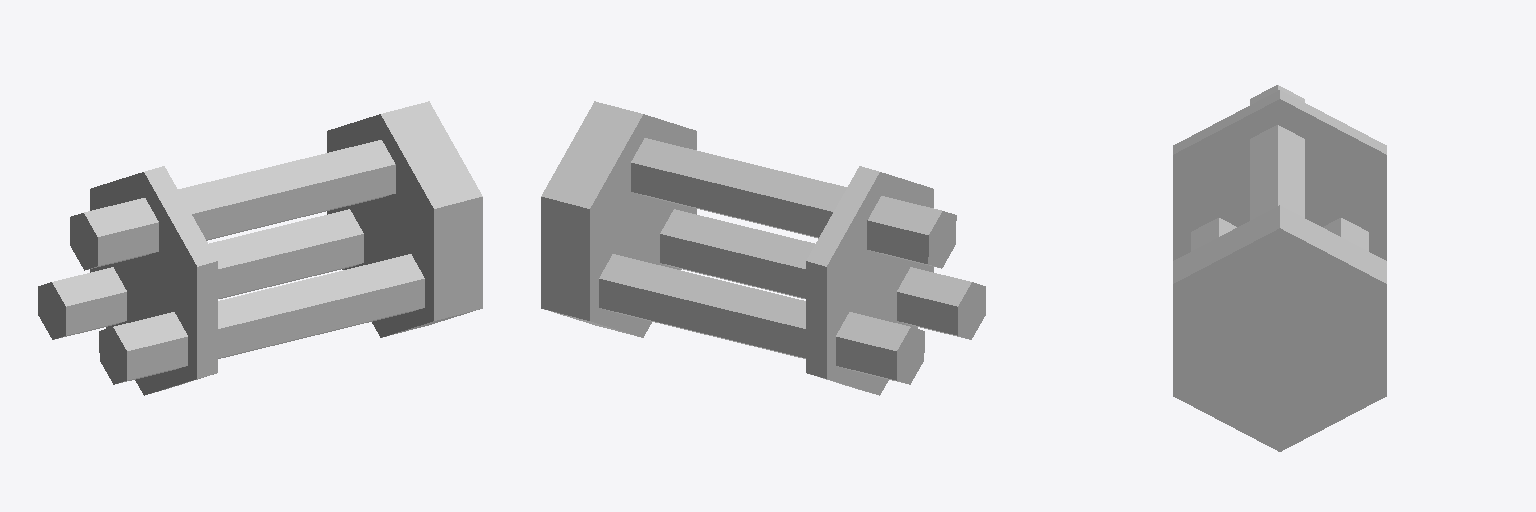
File: barrel1.obj
The picture shows the model from 3 angles: view 1: azimuth 30°, elevation 25°; view 2: azimuth 150°, elevation 25°; view 3: azimuth 270°, elevation 25°; orthographic projection.
Parts seen in each view (by area): view 1: cube1_sep9, cube1_sep10, cube1_sep12, cube1_sep8, cube1_sep11; view 2: cube1_sep9, cube1_sep11, cube1_sep12, cube1_sep8, cube1_sep10; view 3: cube1_sep9, cube1_sep8, cube1_sep12, cube1_sep11, cube1_sep10.
Part boxes in pixels (bbox=[...]): cube1_sep9: bbox=[327, 101, 482, 337]; cube1_sep10: bbox=[99, 254, 424, 384]; cube1_sep12: bbox=[70, 140, 395, 270]; cube1_sep8: bbox=[90, 166, 217, 395]; cube1_sep11: bbox=[38, 209, 363, 339]; cube1_sep9: bbox=[541, 101, 696, 337]; cube1_sep11: bbox=[599, 254, 924, 384]; cube1_sep12: bbox=[631, 138, 956, 268]; cube1_sep8: bbox=[806, 166, 933, 395]; cube1_sep10: bbox=[660, 209, 985, 339]; cube1_sep9: bbox=[1173, 205, 1386, 451]; cube1_sep8: bbox=[1173, 90, 1386, 260]; cube1_sep12: bbox=[1250, 85, 1304, 220]; cube1_sep11: bbox=[1323, 218, 1368, 250]; cube1_sep10: bbox=[1191, 218, 1236, 250].
Bounding box in the file's own units: 1.42 × 0.8795 × 0.7587.